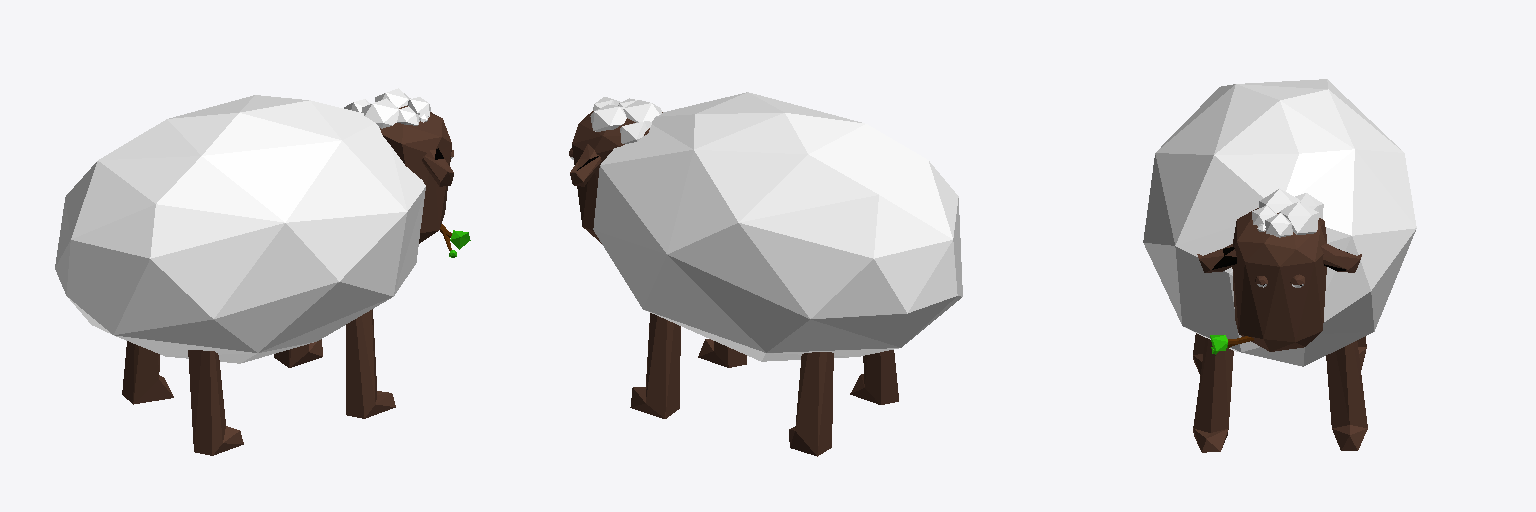
3 views of the same model, side by side, from view 1: azimuth 30°, elevation 25°; view 2: azimuth 150°, elevation 25°; view 3: azimuth 270°, elevation 25° (orthographic).
Parts seen in each view (by area): view 1: Icosphere_003_Icosphere_009; view 2: Icosphere_003_Icosphere_009; view 3: Icosphere_003_Icosphere_009.
Boxes of the visible parts, x1,y1,x2,y2 form: Icosphere_003_Icosphere_009: [55, 88, 470, 455]; Icosphere_003_Icosphere_009: [569, 92, 962, 456]; Icosphere_003_Icosphere_009: [1143, 79, 1416, 452].
Bounding box in the file's own units: 1.82 × 1.36 × 1.14.
5 materials, 2 textured.